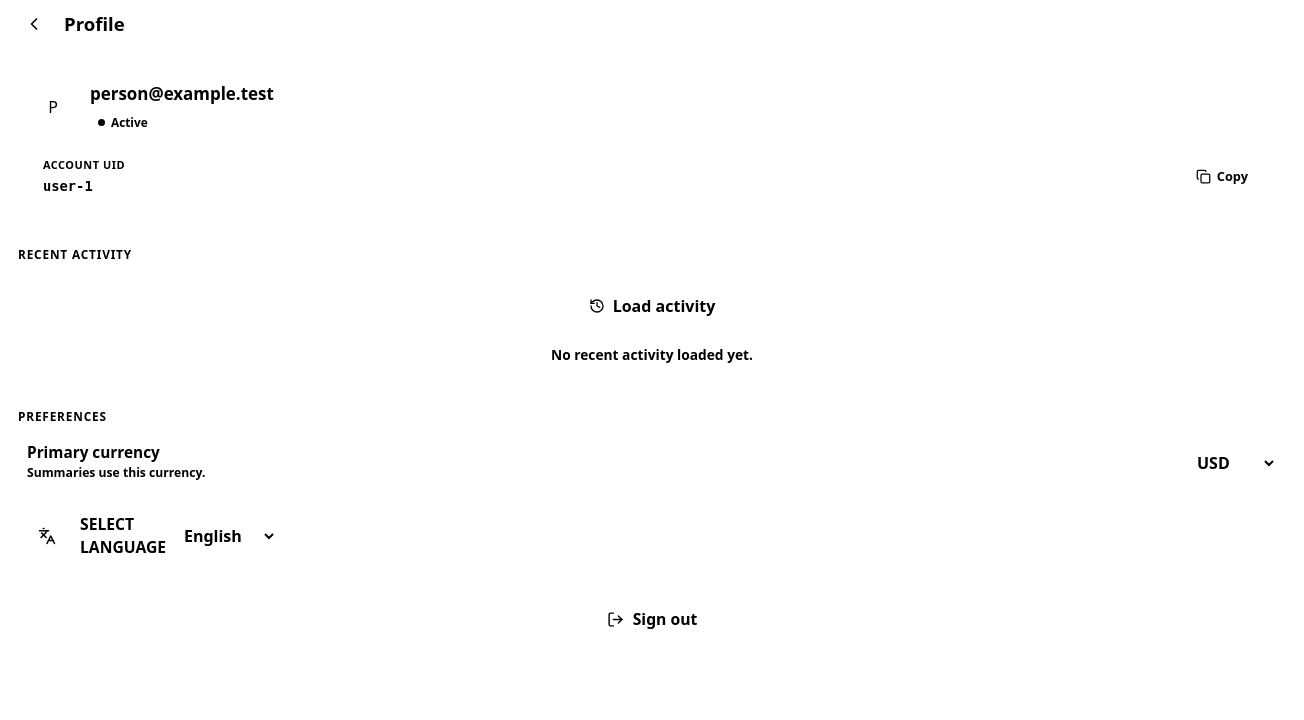
it: MeView › shows an inline activity load failure from the audit query
Click the button "Load activity" at (652, 306), box [28, 285, 1276, 327]
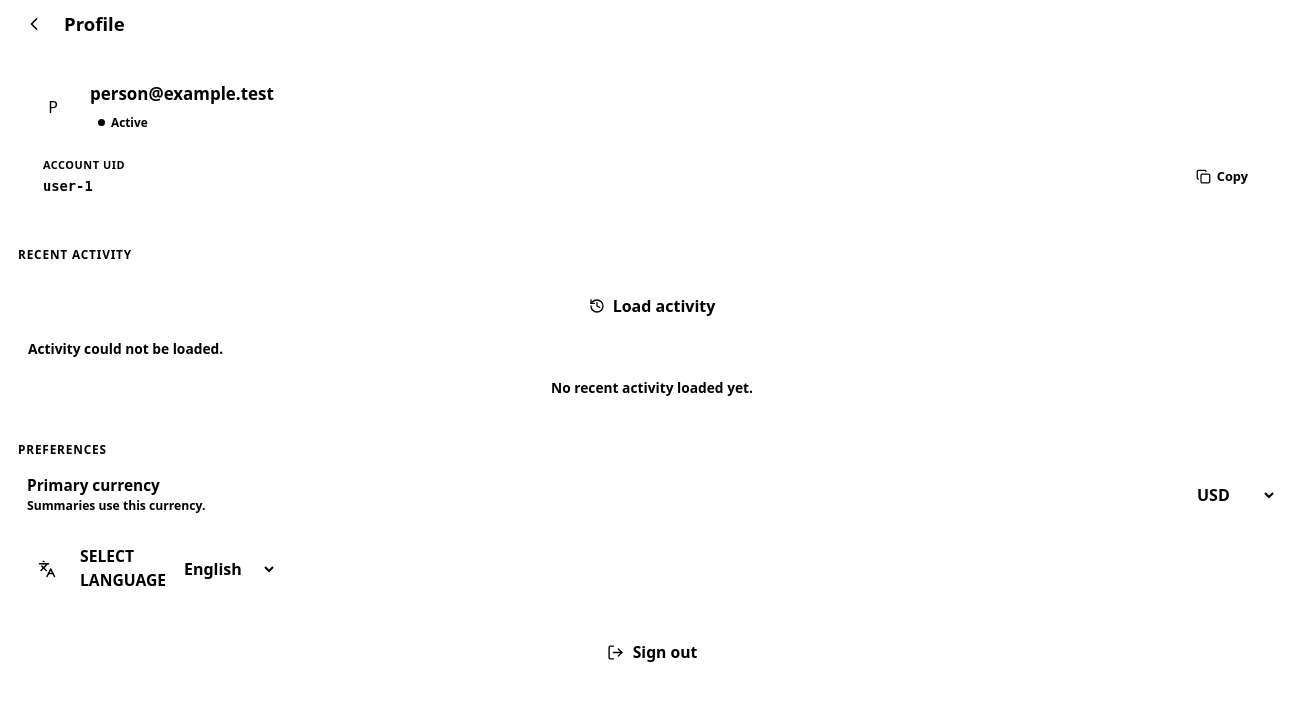
expect the text "Activity could not be loaded." is shown: met, box [28, 339, 223, 358]
